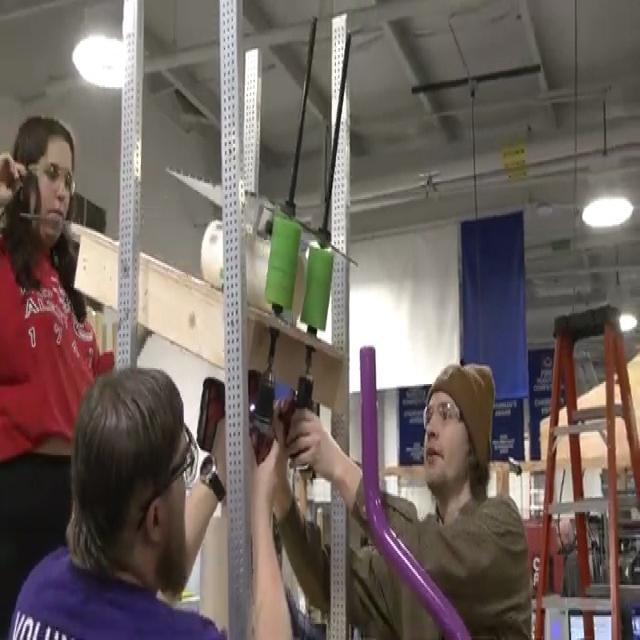Coral: (202, 217, 305, 312)
